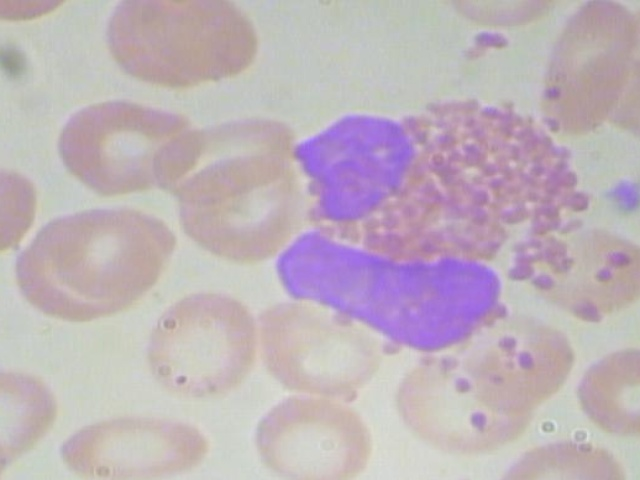Platelets: (594, 172, 640, 219)
RBC: (139, 284, 267, 408), (149, 104, 303, 206), (97, 0, 267, 92), (258, 291, 392, 401), (535, 0, 640, 139), (234, 389, 382, 480), (457, 316, 592, 414), (512, 228, 640, 326), (57, 412, 223, 480), (0, 359, 72, 458), (571, 343, 640, 439), (0, 163, 43, 255)
WBC: (279, 94, 605, 358)
